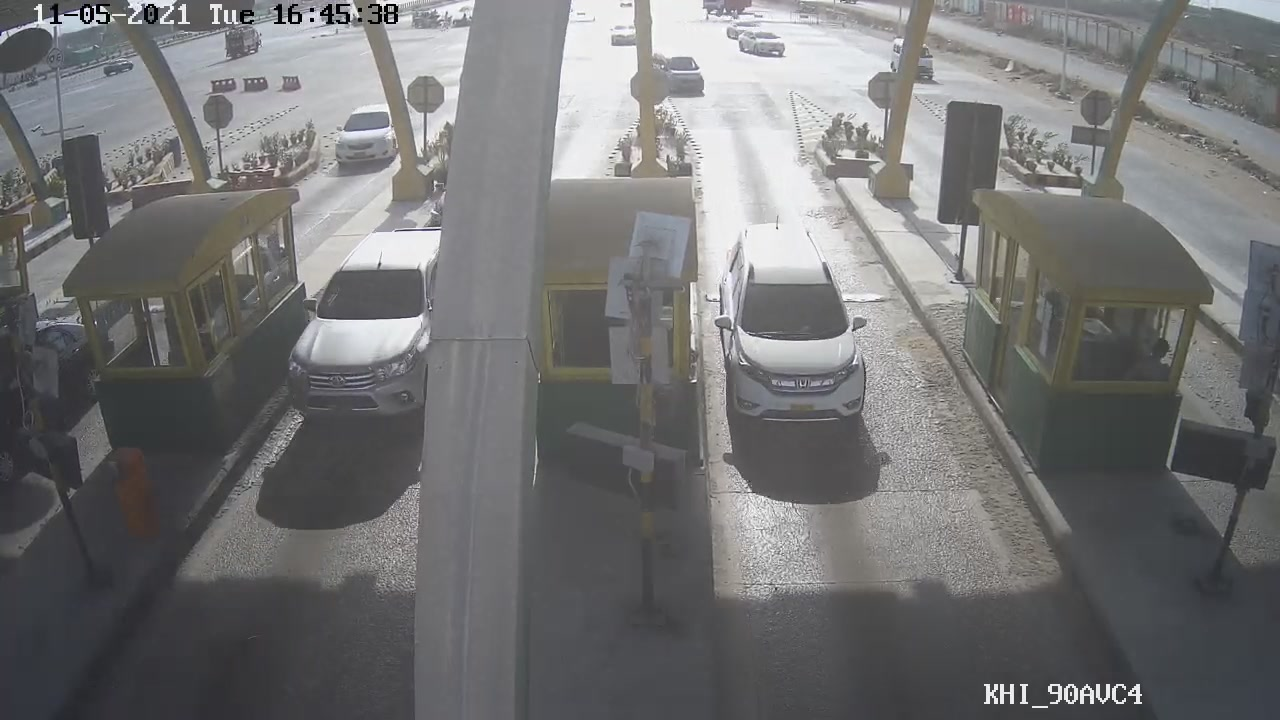F1: (711, 218, 878, 437)
